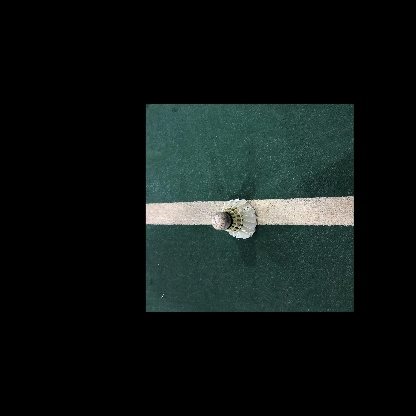ball_single: (212, 198, 257, 239)
